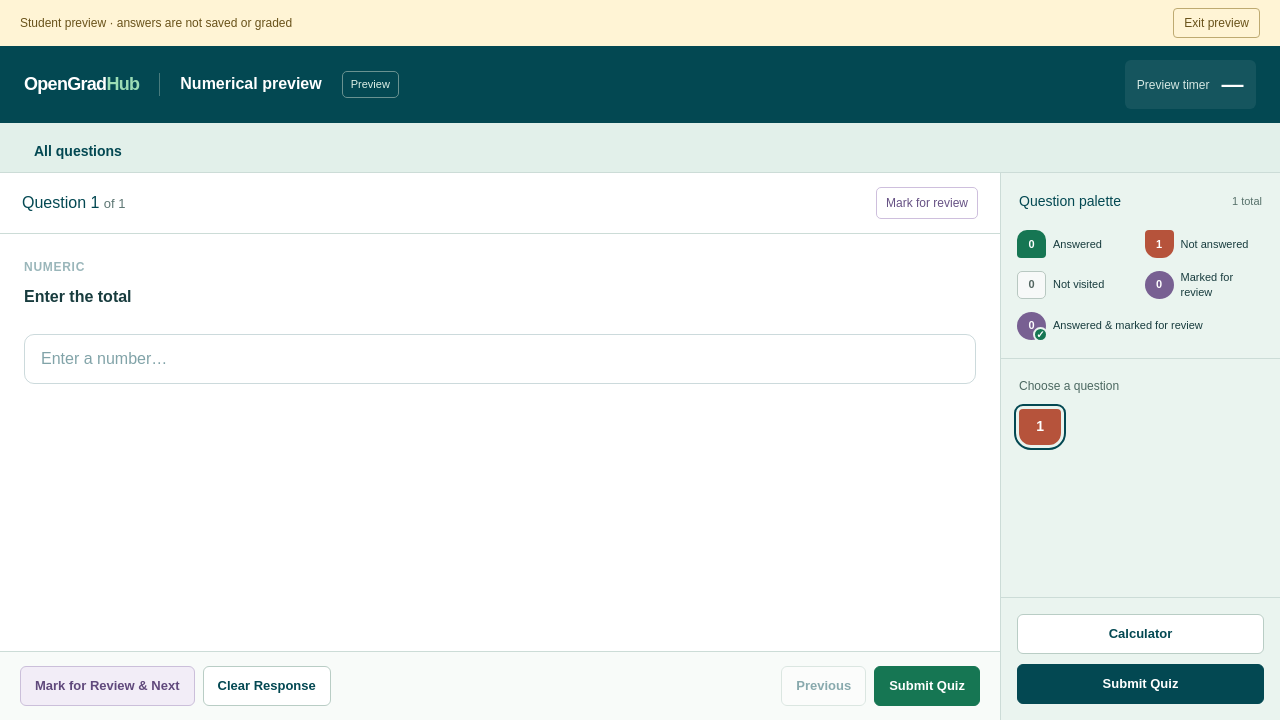
Test case: does not count a skipped numerical preview answer as correct or invent timing statistics
Click the 1st button "Submit Quiz": click(927, 686) [874, 666, 980, 706]
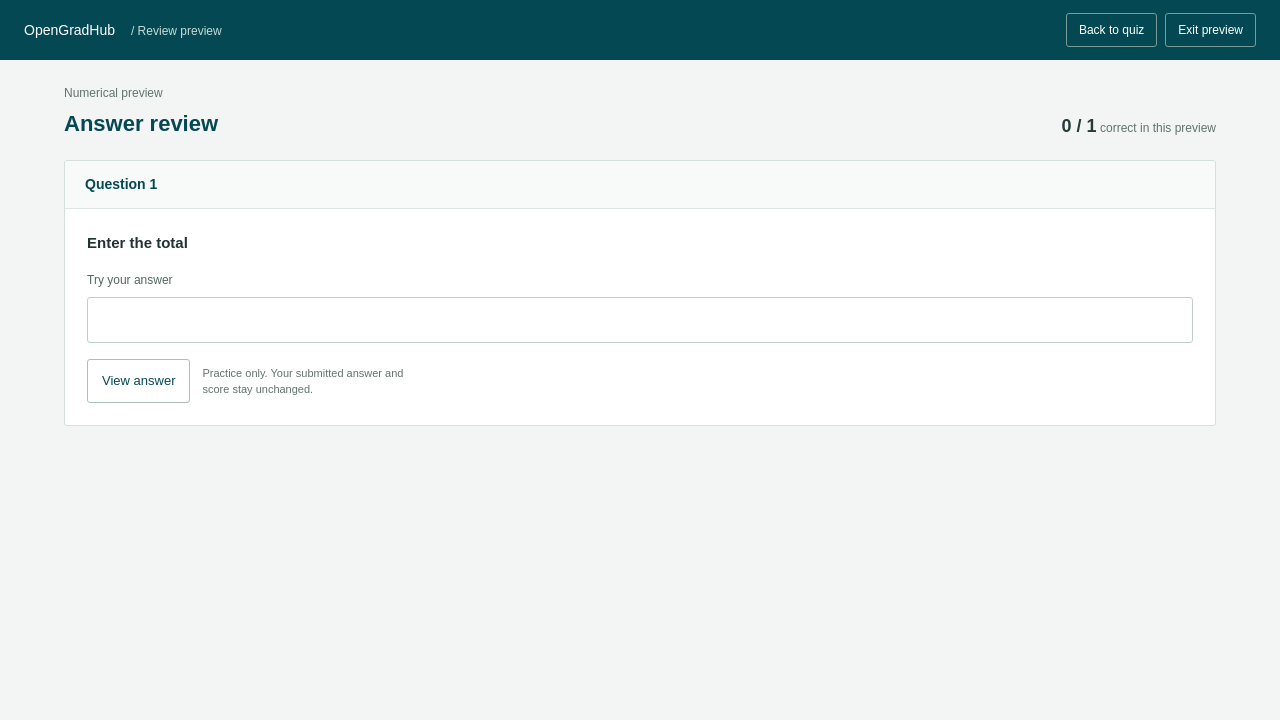
Expected: the text "Skipped" is not shown
Expected: the text "0 / 1" is shown, [1062, 116, 1097, 136]
Click the button "View answer": click(139, 381) [87, 359, 190, 403]
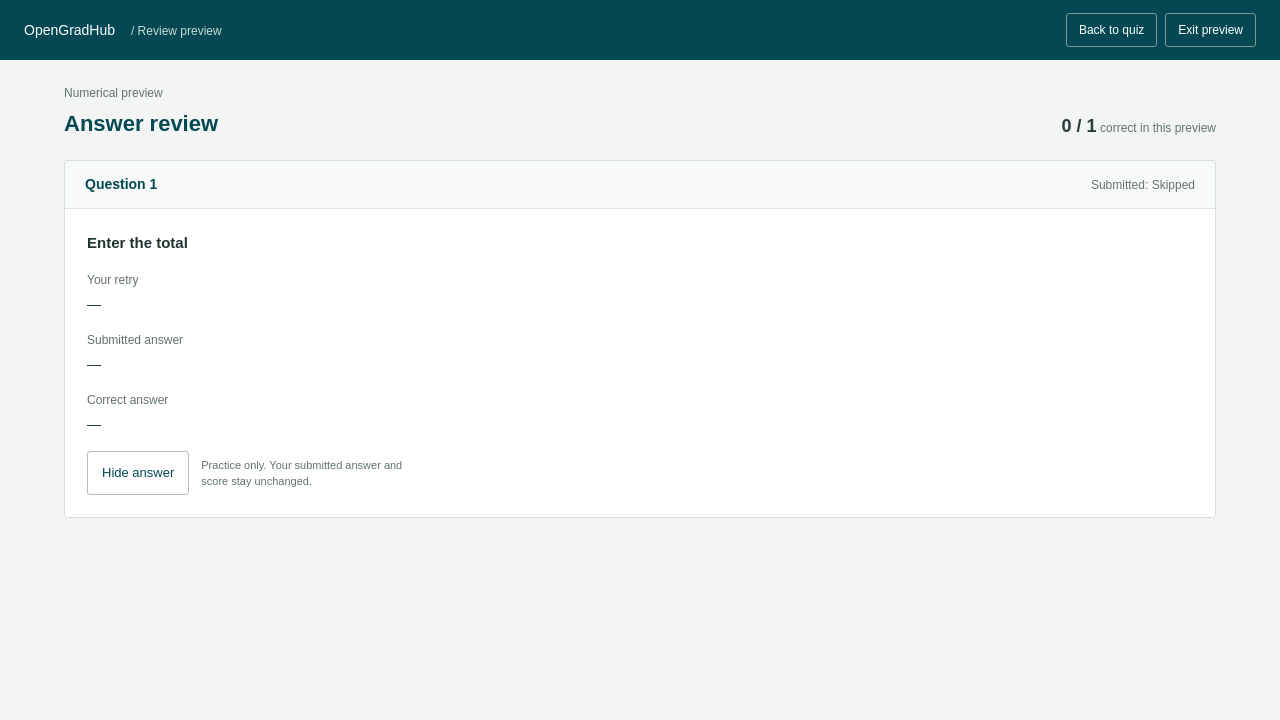
Expected: the text "Submitted: Skipped" is shown, [1091, 176, 1195, 194]
